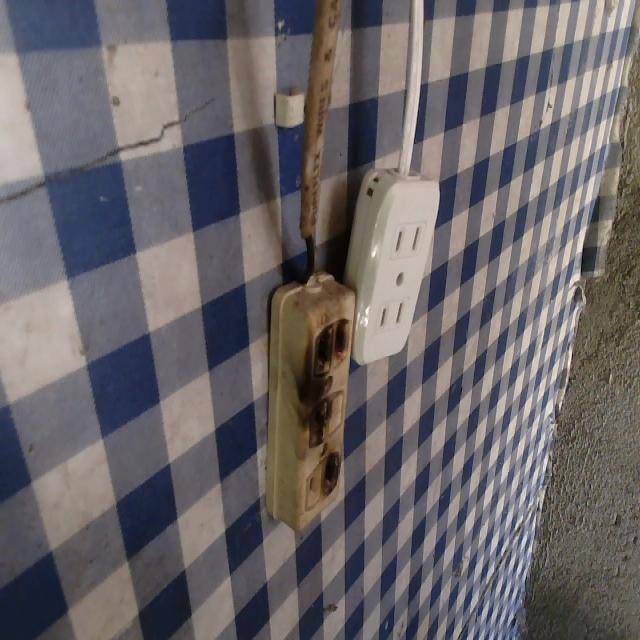-: (298, 311, 352, 380), (304, 390, 331, 450), (320, 448, 346, 497)
